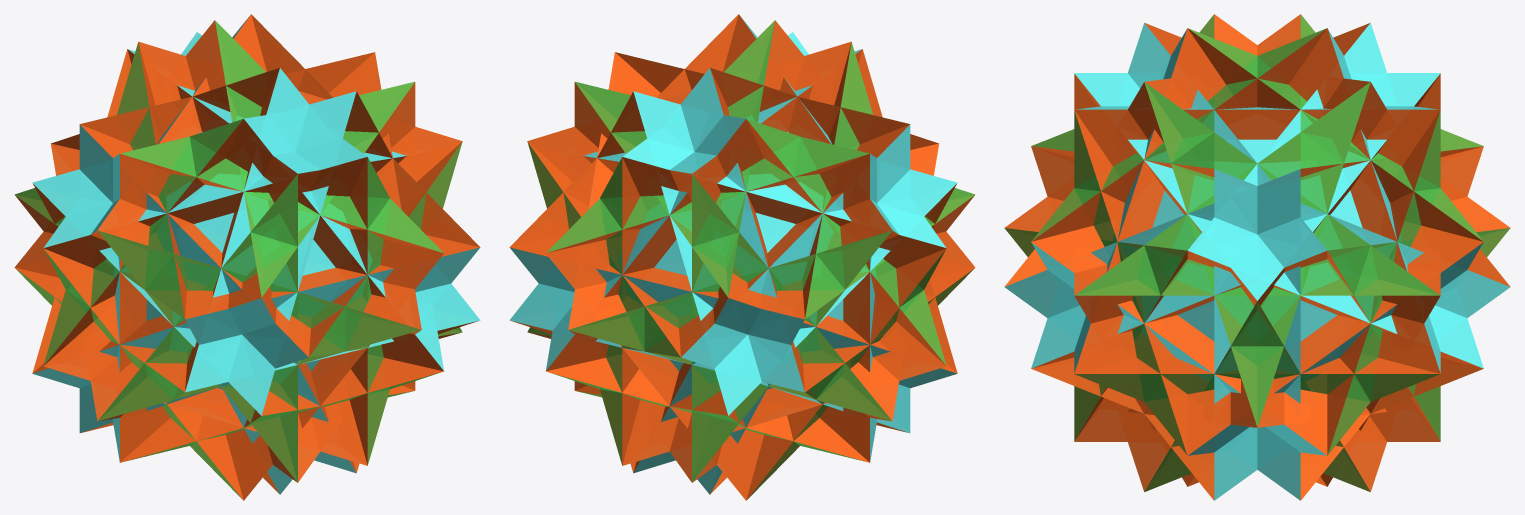
The model's file is UniformGreatRhombicosidodecahedron.obj.
3 views of the same model, side by side, from view 1: azimuth 30°, elevation 25°; view 2: azimuth 150°, elevation 25°; view 3: azimuth 270°, elevation 25° (orthographic). The views are drawn at different scales.
Size of the model in its own units: 1.38 by 1.38 by 1.38.
